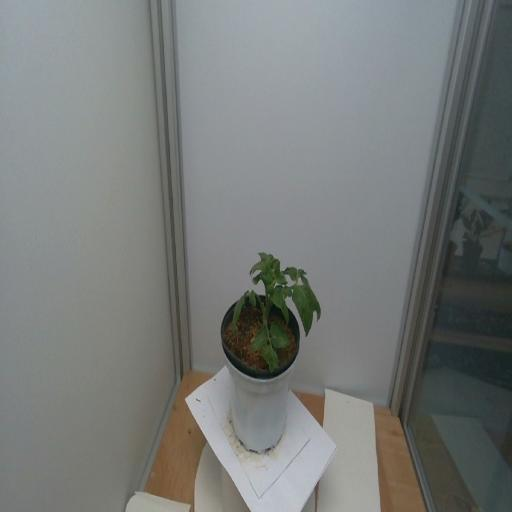Tomato-Leaves-Cupboard-: (292, 282, 314, 336), (228, 289, 246, 335), (270, 286, 290, 324), (270, 321, 295, 350), (250, 325, 268, 357), (311, 280, 325, 320), (262, 345, 280, 375), (246, 287, 258, 311), (281, 264, 297, 282), (244, 259, 266, 272), (256, 252, 272, 265), (250, 272, 264, 286), (273, 258, 281, 280), (298, 263, 307, 281), (282, 286, 292, 298)
